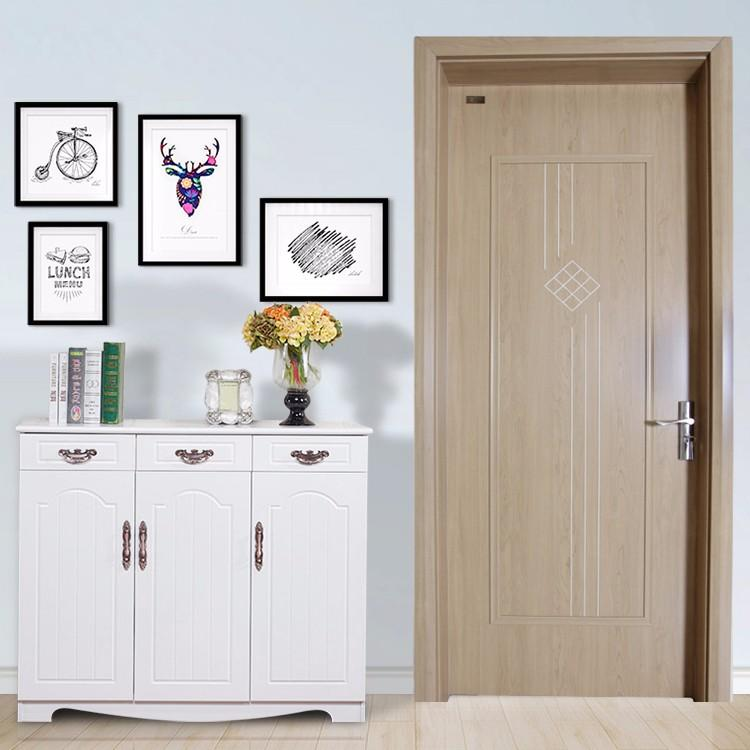door: (437, 75, 695, 695)
